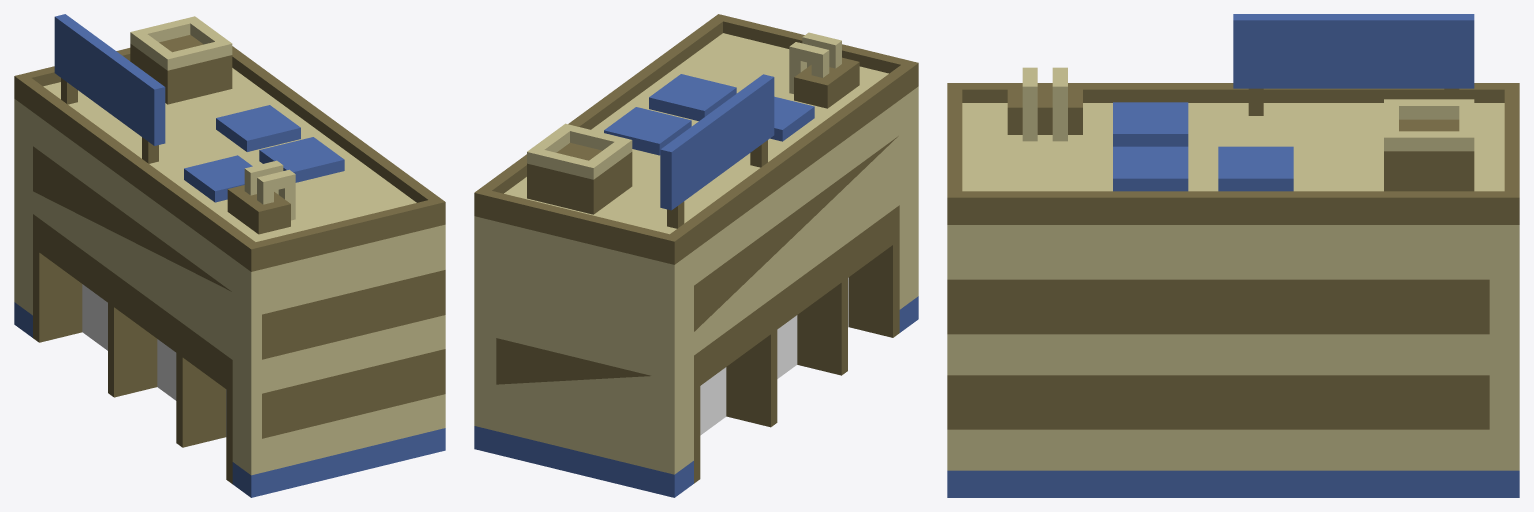
Rendered from sf_shop_5_lod.glb.
3 views of the same model, side by side, from view 1: azimuth 30°, elevation 25°; view 2: azimuth 150°, elevation 25°; view 3: azimuth 270°, elevation 25° (orthographic). The views are drawn at different scales.
Visible parts, largest first — view 1: Object_2; view 2: Object_2; view 3: Object_2.
Boxes of the visible parts, box(x1,y1,x2,y2) form: Object_2: box(14, 14, 445, 497); Object_2: box(474, 14, 918, 497); Object_2: box(947, 14, 1519, 497).
Bounding box in the file's own units: 4.5 × 7 × 9.5.
Materials: 1 (1 with a texture image).
